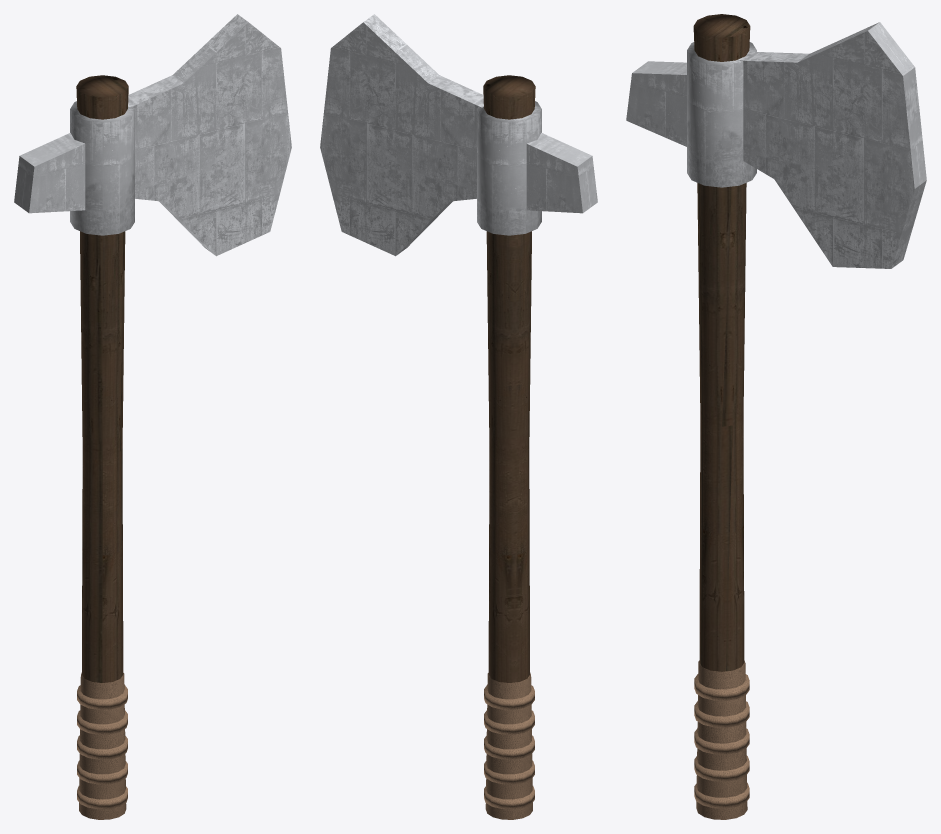
Rendered from axe_1handed.glb.
3 views of the same model, side by side, from view 1: azimuth 30°, elevation 25°; view 2: azimuth 150°, elevation 25°; view 3: azimuth 330°, elevation 25° (orthographic). The views are drawn at different scales.
Visible parts, largest first — view 1: axe_1handed; view 2: axe_1handed; view 3: axe_1handed.
Part boxes in pixels (bbox=[...]): axe_1handed: bbox=[14, 14, 291, 819]; axe_1handed: bbox=[320, 14, 597, 819]; axe_1handed: bbox=[626, 14, 926, 819].
Bounding box in the file's own units: 0.245 × 0.67 × 0.052.
3 materials, 3 textured.
